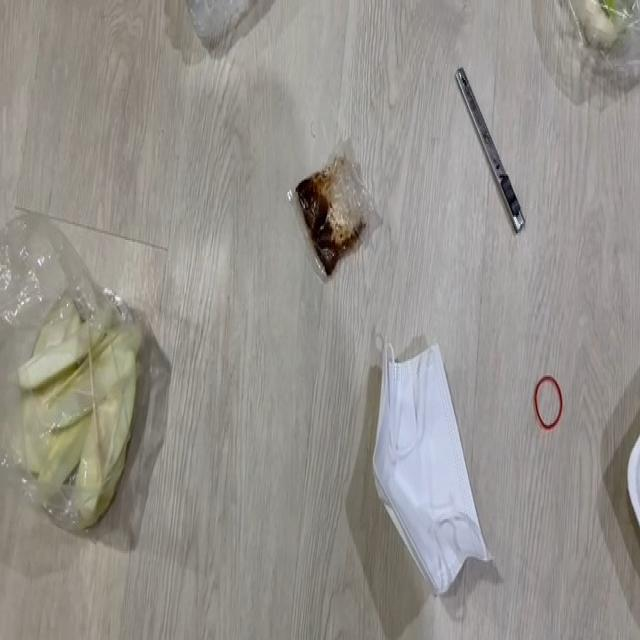Anorganik: (428, 63, 534, 227), (172, 0, 272, 69), (620, 416, 640, 630), (530, 372, 569, 432)
B3: (0, 290, 146, 540), (370, 342, 496, 600), (286, 128, 388, 292)
